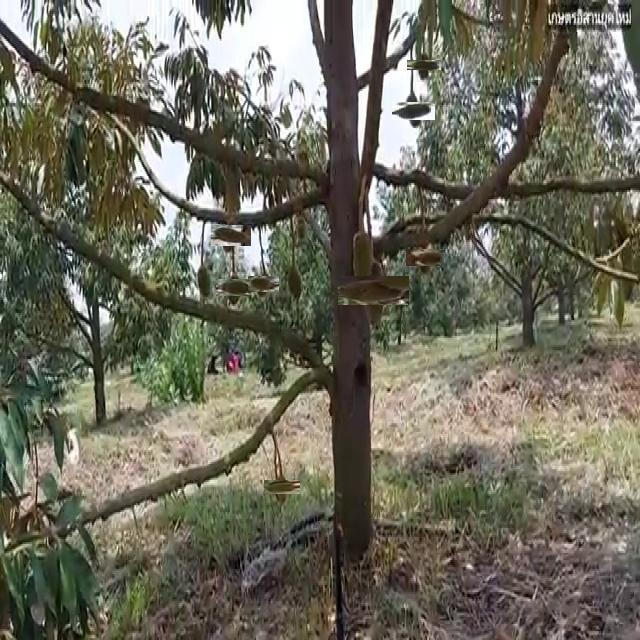durian: (348, 265, 399, 316), (349, 226, 374, 292), (215, 220, 246, 251), (398, 95, 429, 126), (411, 243, 439, 271), (286, 264, 304, 304), (221, 274, 247, 301), (196, 262, 213, 301), (269, 475, 294, 500), (251, 272, 275, 296), (413, 54, 436, 76)
